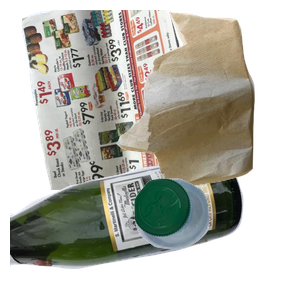glass: (10, 154, 246, 300)
paper: (19, 10, 223, 190)
plastic: (132, 176, 300, 300)
trash: (114, 10, 300, 189)
